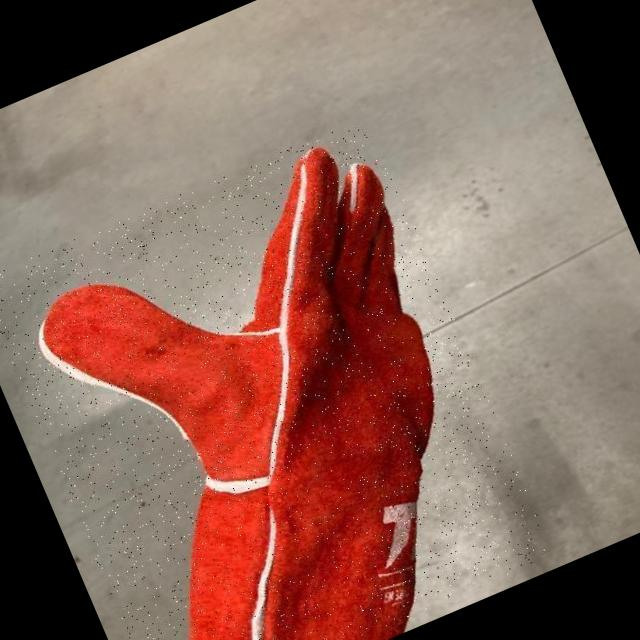forklift: (5, 122, 542, 640)
